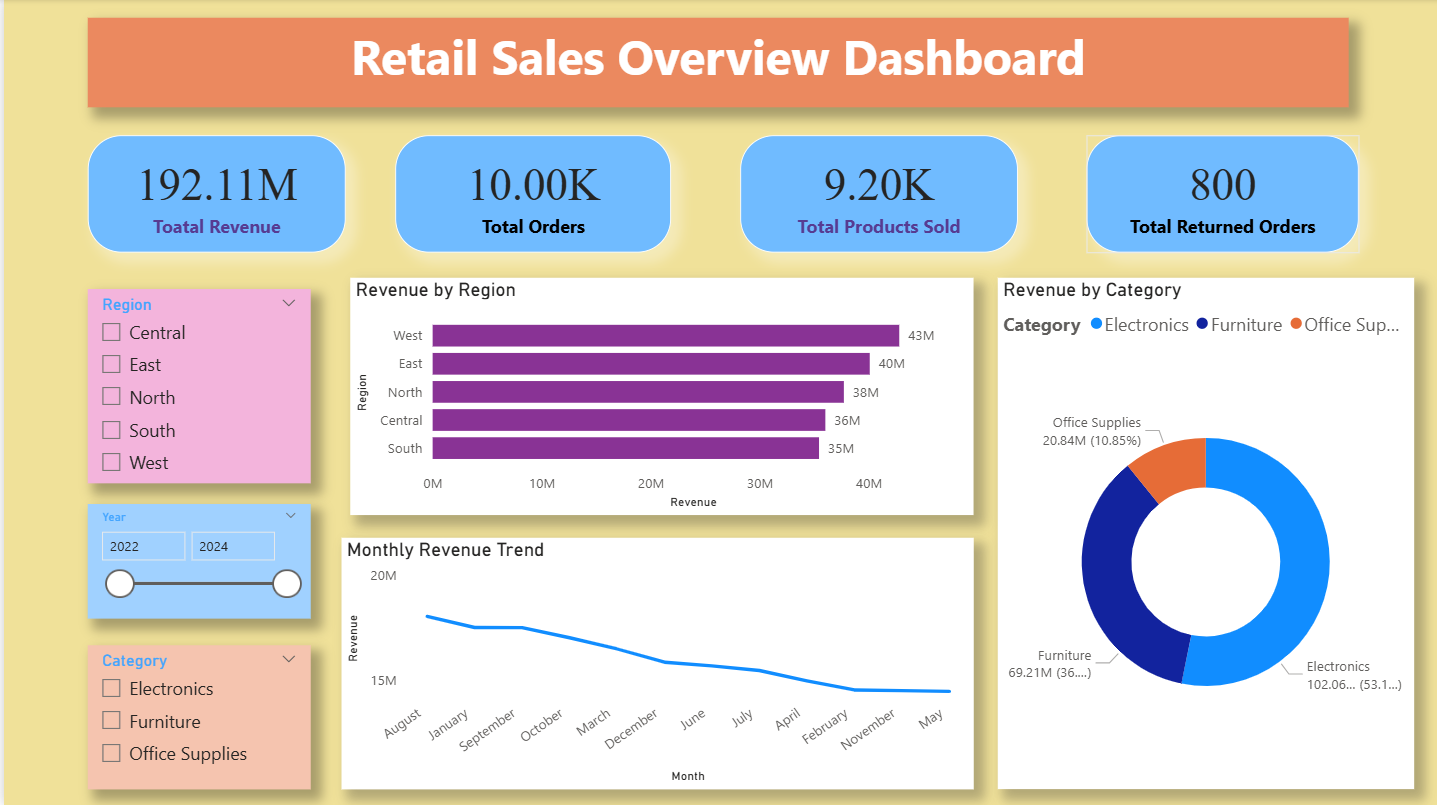

Layout of this report page (visuals, bound fields, positions):
{"tool":"powerbi","page":{"name":"Retail Sales Overview Dashboard","canvas":[1280,720],"ordinal":0},"visuals":[{"type":"textbox","box":[74.4,16.3,1126.7,80.2],"z":0},{"type":"card","fields":{"Values":["Sum(Orders.Sales Amount)"]},"box":[74.4,122.1,230.2,104.7],"z":1000},{"type":"card","fields":{"Values":["Count(Orders.Order ID)"]},"box":[350,122.1,246.5,104.7],"z":2000},{"type":"card","fields":{"Values":["Count(Orders.Order ID)"]},"box":[967.4,122.1,243,104.7],"z":3000},{"type":"card","fields":{"Values":["CountNonNull(Orders.Is Returned)"]},"box":[658.1,122.1,247.7,104.7],"z":4000},{"type":"donutChart","fields":{"Category":["Orders.Category"],"Y":["Sum(Orders.Sales Amount)"]},"box":[887.2,248.8,372.1,457],"z":5000},{"type":"lineChart","title":"Monthly Revenue Trend","fields":{"Category":["Orders.Order Month"],"Y":["Sum(Orders.Sales Amount)"]},"box":[301.2,481.4,565.1,224.4],"z":6000},{"type":"clusteredBarChart","fields":{"Category":["Orders.Region"],"Y":["Sum(Orders.Sales Amount)"]},"box":[309.3,248.8,557,211.6],"z":7000},{"type":"slicer","fields":{"Values":["Orders.Region"]},"box":[74.4,259.3,198.8,173.3],"z":8000},{"type":"slicer","fields":{"Values":["Returns.Return Date.Variation.Date Hierarchy.Year"]},"box":[74.4,451.2,198.8,102.3],"z":9000},{"type":"slicer","fields":{"Values":["Orders.Category"]},"box":[74.4,576.7,198.8,129.1],"z":10000}]}

Visuals, with their boxes in screenshot pixels (x1, y1, x2, y2), scaled from the page's 1280x720 canvas onto the 1437x805 screenshot:
textbox: bbox(84, 18, 1348, 108)
card - Sum(Orders.Sales Amount): bbox(84, 137, 342, 254)
card - Count(Orders.Order ID): bbox(393, 137, 670, 254)
card - Count(Orders.Order ID): bbox(1086, 137, 1359, 254)
card - CountNonNull(Orders.Is Returned): bbox(739, 137, 1017, 254)
donutChart - Orders.Category x Sum(Orders.Sales Amount): bbox(996, 278, 1414, 789)
"Monthly Revenue Trend" lineChart: bbox(338, 538, 973, 789)
clusteredBarChart - Orders.Region x Sum(Orders.Sales Amount): bbox(347, 278, 973, 515)
slicer - Orders.Region: bbox(84, 290, 307, 484)
slicer - Returns.Return Date.Variation.Date Hierarchy.Year: bbox(84, 504, 307, 619)
slicer - Orders.Category: bbox(84, 645, 307, 789)
